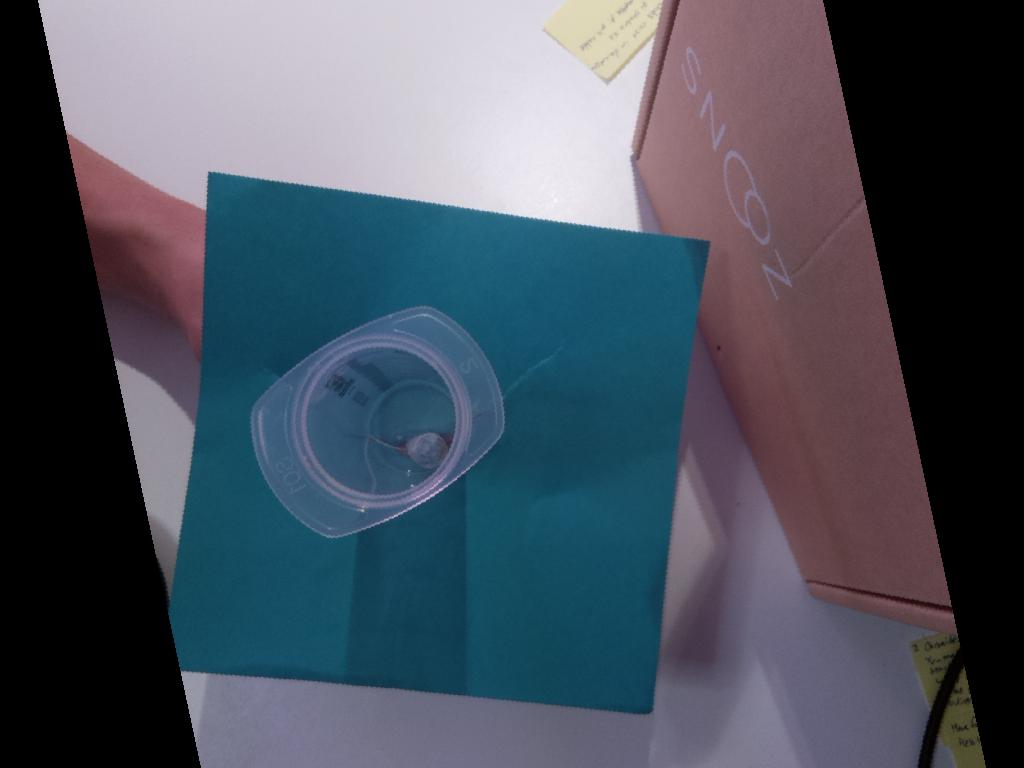clean: (251, 304, 506, 537)
